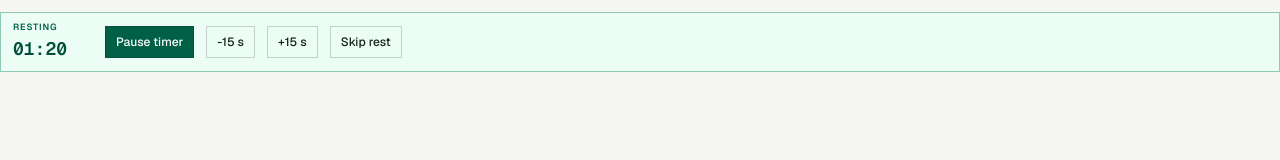
Test: RestTimer +15 / -15 › -15 takes fifteen seconds off the running rest
Step 1. Click the button named "Subtract 15 seconds" → click(231, 42), box [206,26,255,58]
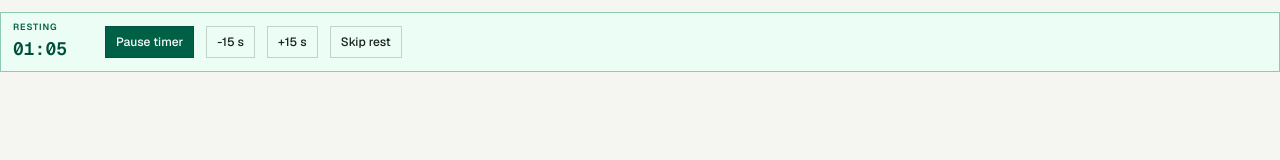
Result: the text "01:05" is shown at [13,36,67,60]
